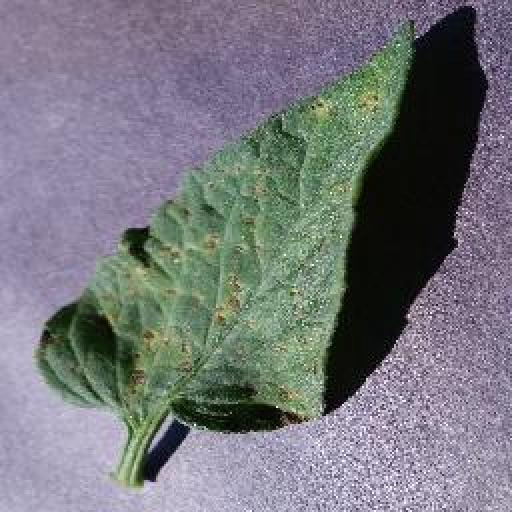disease_tomato: (34, 17, 416, 432)
